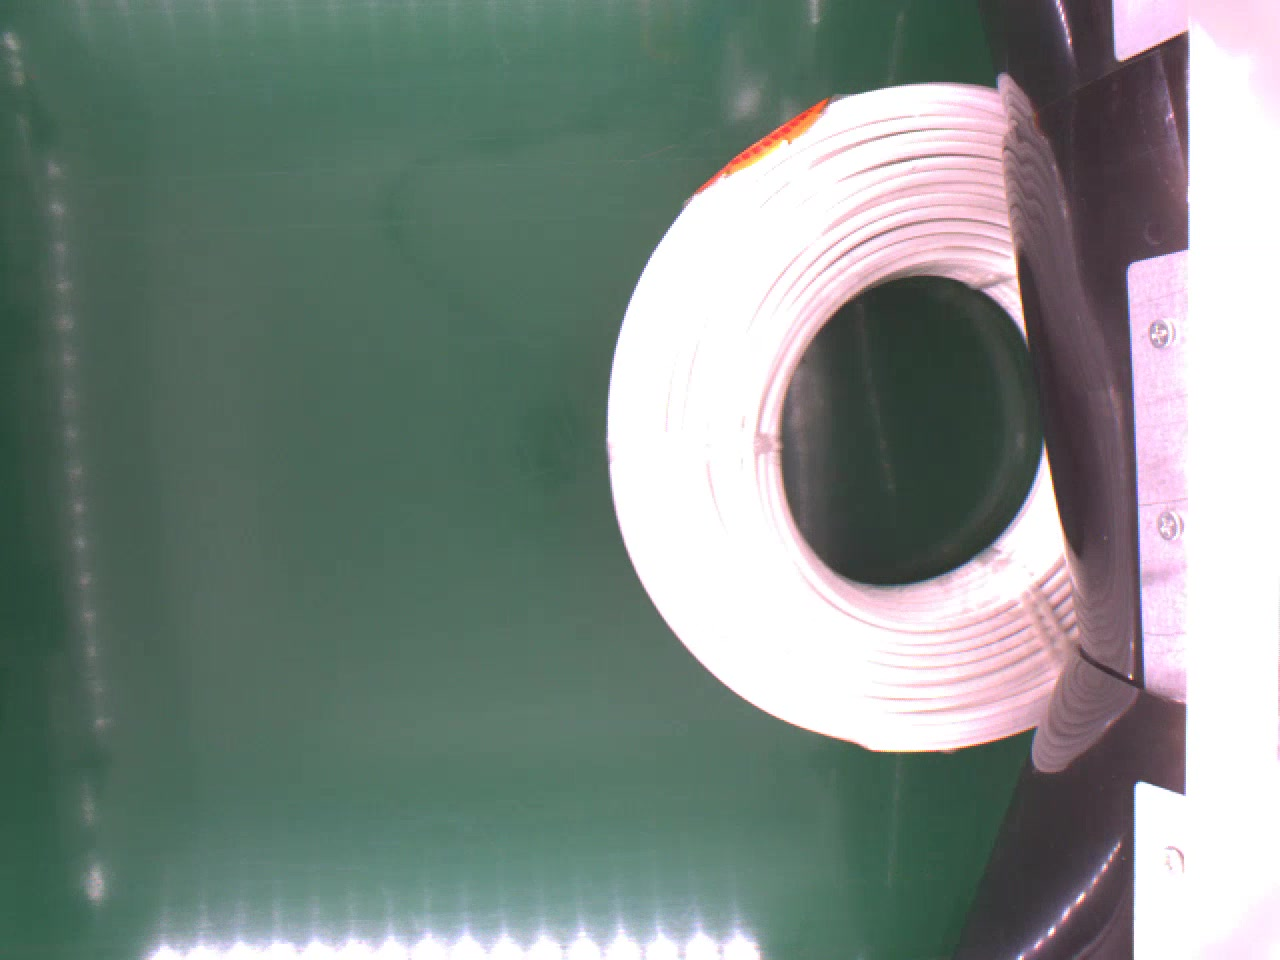white: (599, 80, 1080, 756)
